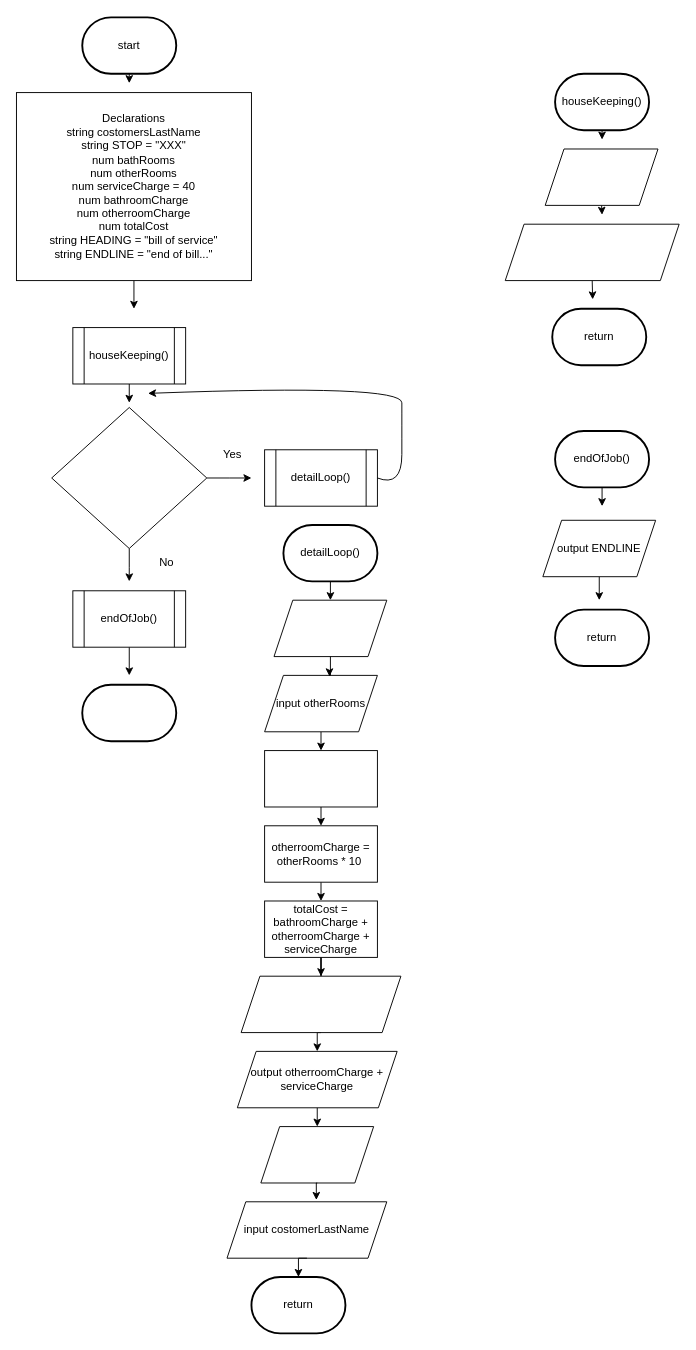
This 696x1350 diagram has some shape labels left out. Here are the shapes that lost their labels. From the top down, the centre of each, then its label:
the point at 601,176: output HEADING
the point at 591,252: input constomersLastName
the point at 129,477: name not equal to STOP?
the point at 330,628: input bathRooms
the point at 129,712: stop
the point at 320,778: bathroomCharge = bathRooms * 15
the point at 320,1004: output bathroomCharge + serviceCharge
the point at 317,1154: output totalCost
